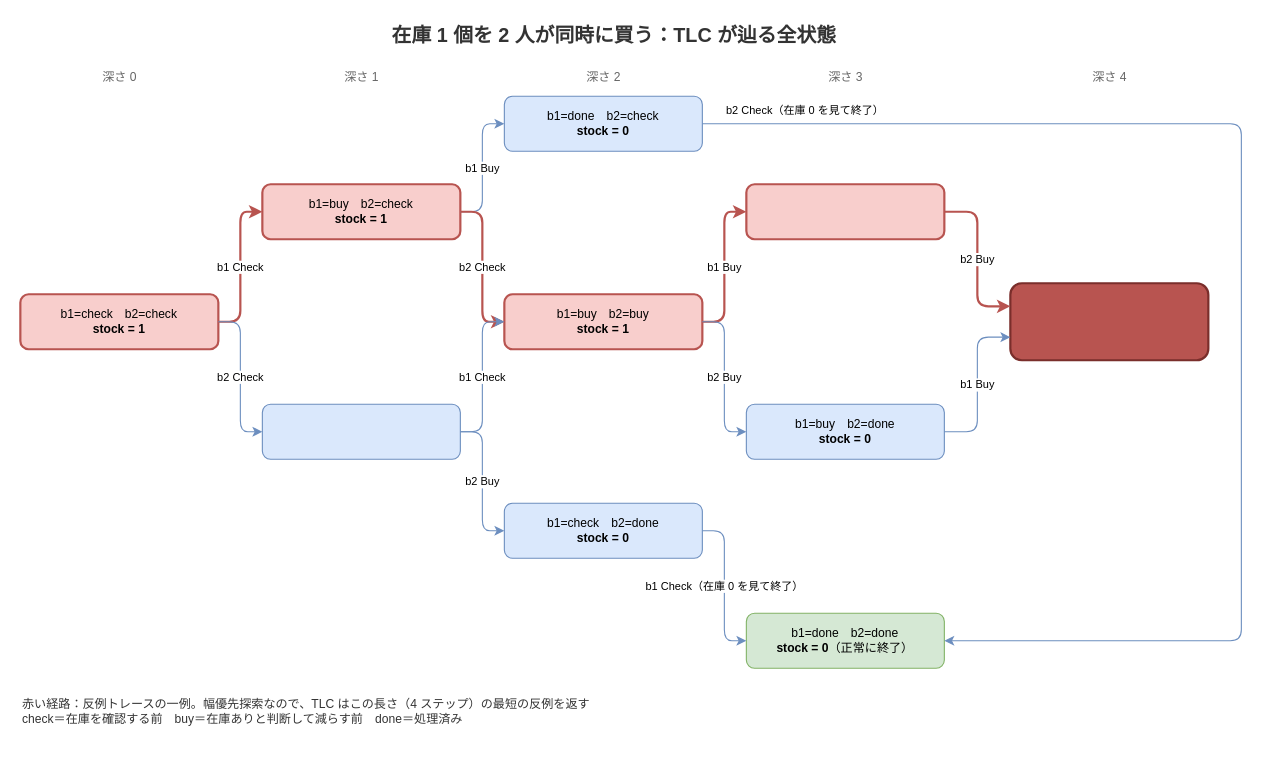
Some shapes in this 1269 by 758 pixel diagram are drawn without their labels. Each missing label, with the box of its shape:
b1=check b2=buy stock = 1: (261, 403, 460, 459)
b1=done b2=buy stock = 0: (745, 183, 945, 240)
b1=done b2=done stock = -1 不変条件 stock ≥ 0 に違反: (1009, 282, 1209, 361)
